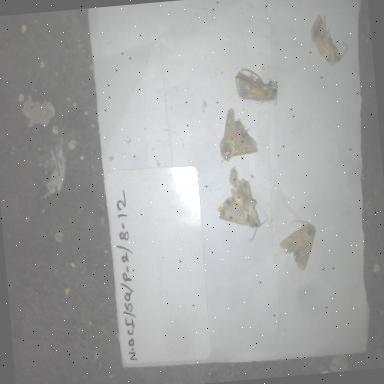abw: (212, 173, 274, 249), (270, 216, 324, 280), (212, 104, 264, 169), (302, 9, 350, 77), (228, 62, 284, 112)
